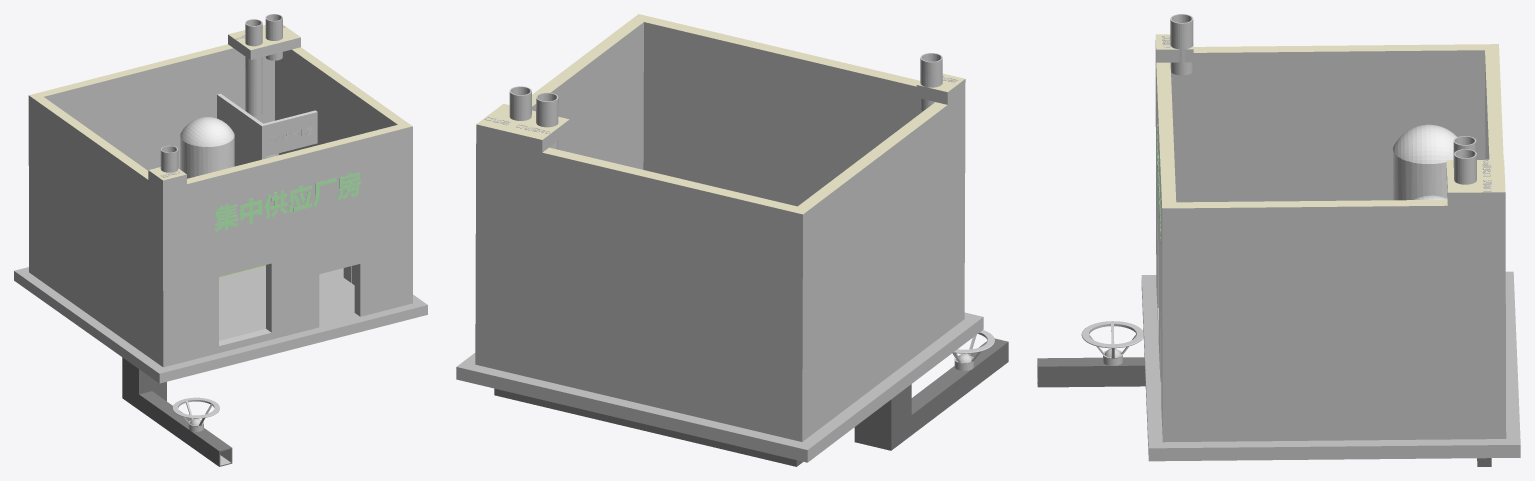
3 views of the same model, side by side, from view 1: azimuth 30°, elevation 25°; view 2: azimuth 150°, elevation 25°; view 3: azimuth 270°, elevation 25° (orthographic). The views are drawn at different scales.
Parts seen in each view (by area): view 1: Node3, Node7, Node6; view 2: Node3; view 3: Node3, Node6.
Boxes of the visible parts, x1,y1,x2,y2 form: Node3: (14,14,427,466); Node7: (217,93,317,166); Node6: (180,117,234,178); Node3: (456,14,1008,466); Node3: (1037,14,1520,466); Node6: (1393,124,1456,200).
Bounding box in the file's own units: 14621 × 14069 × 16895.
